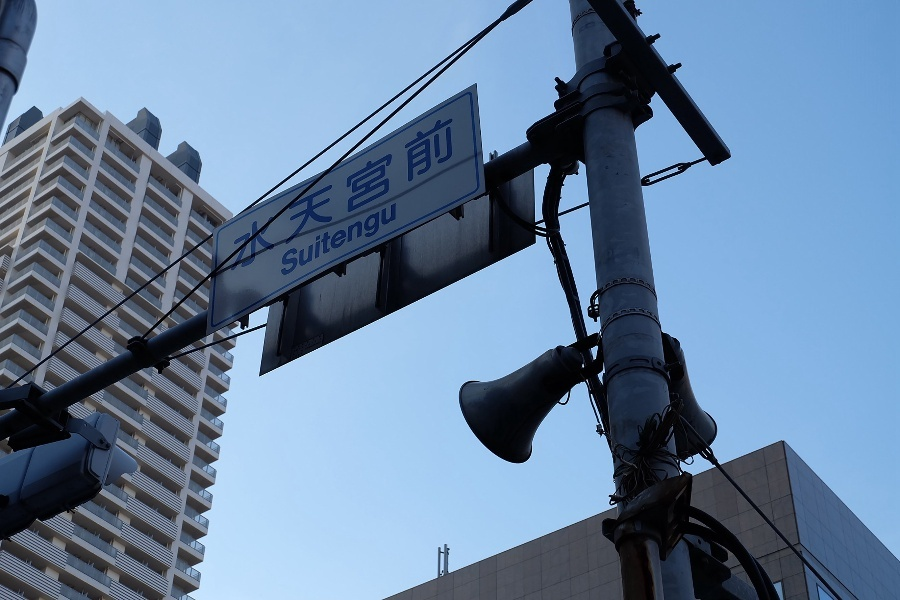text: (241, 113, 256, 274), (257, 113, 272, 274), (273, 113, 288, 274), (289, 113, 304, 274), (305, 113, 320, 274), (321, 113, 336, 274), (337, 113, 352, 274), (353, 113, 368, 274), (369, 113, 384, 274), (385, 113, 400, 274), (401, 113, 416, 274), (417, 113, 432, 274), (433, 113, 448, 274), (289, 201, 304, 278), (305, 201, 320, 278), (321, 201, 336, 278), (337, 201, 352, 278), (353, 201, 368, 278), (369, 201, 384, 278), (449, 113, 455, 274), (385, 201, 396, 278), (236, 113, 240, 274), (281, 201, 288, 278)
